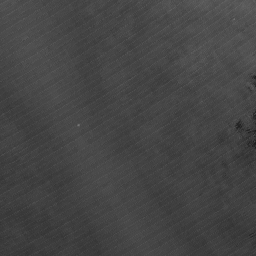Target: (75, 122, 82, 129)
